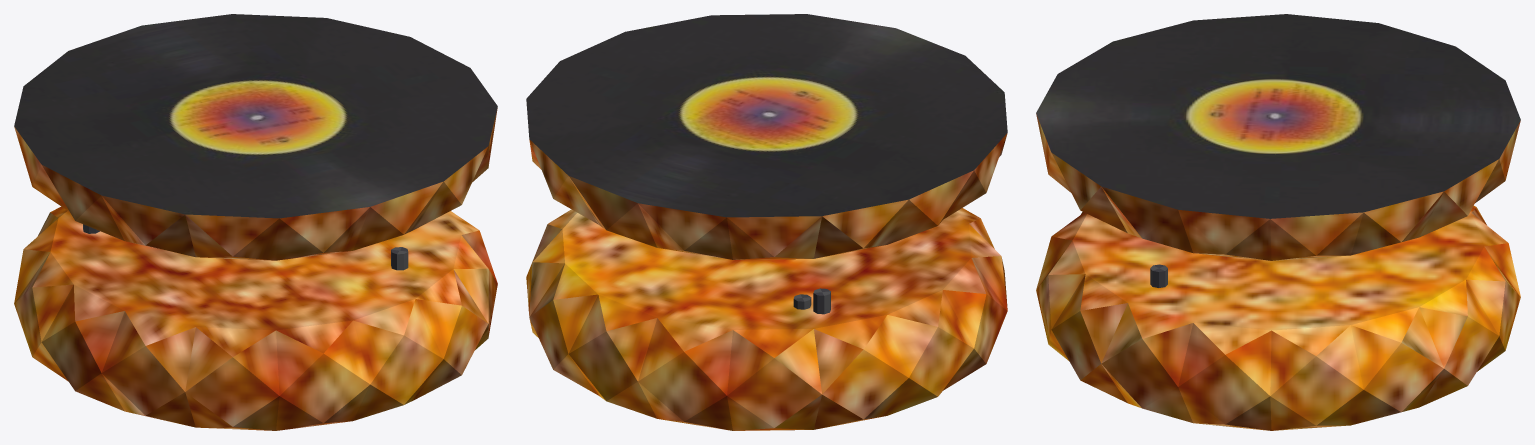
File: msh_BarAnanas.fbx
3 renders of one model, left to right at view 1: azimuth 30°, elevation 25°; view 2: azimuth 150°, elevation 25°; view 3: azimuth 270°, elevation 25°, orthographic.
Parts seen in each view (by area): view 1: msh_BarAnanas; view 2: msh_BarAnanas; view 3: msh_BarAnanas.
Part boxes in pixels (bbox=[...]): msh_BarAnanas: bbox=[14, 14, 497, 430]; msh_BarAnanas: bbox=[526, 14, 1007, 430]; msh_BarAnanas: bbox=[1036, 14, 1520, 430].
Bounding box in the file's own units: 235 × 122 × 235.
